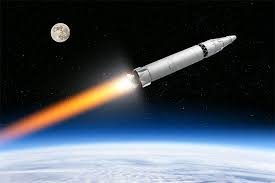ten_lua: (131, 30, 237, 88)
